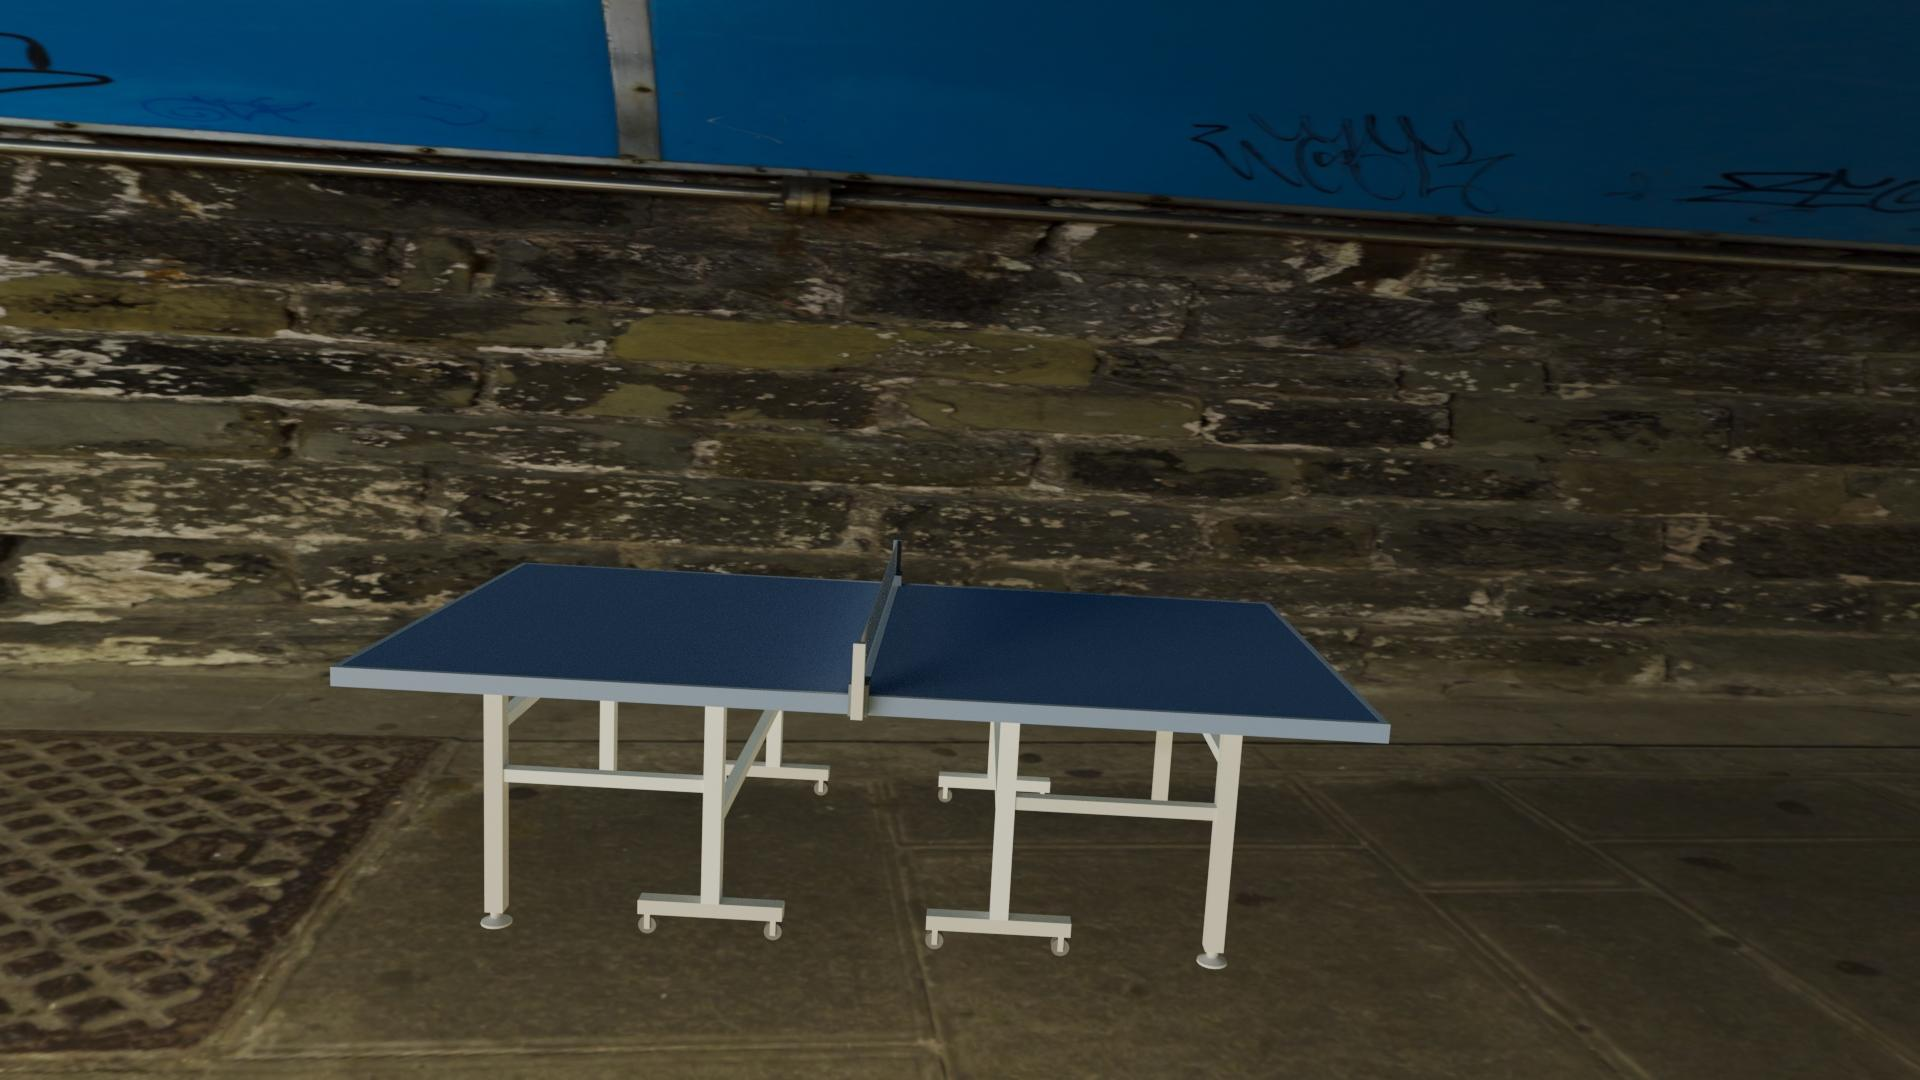table: (341, 564, 1381, 722)
